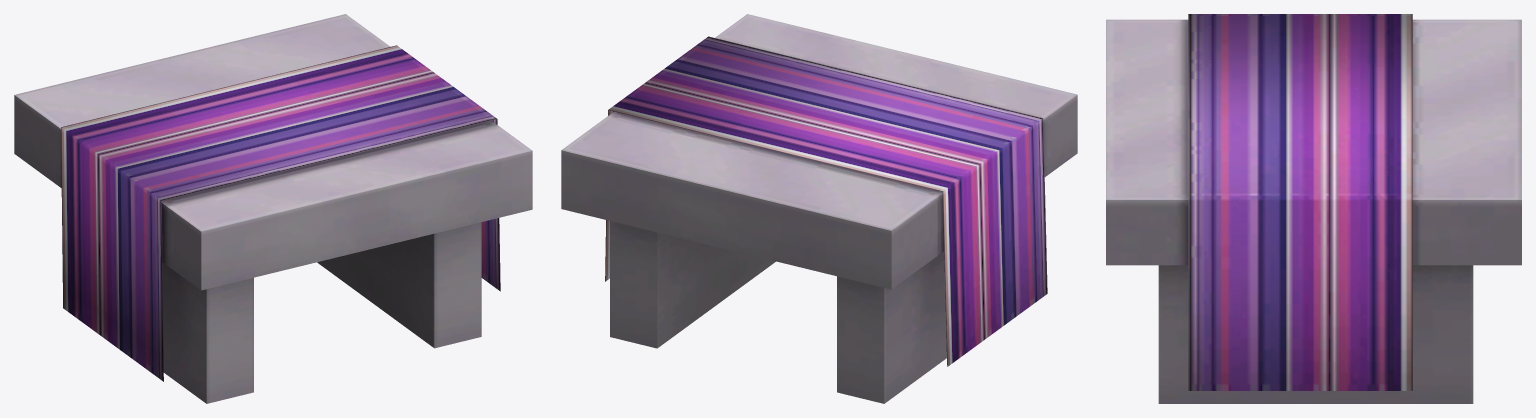
File: furni_0200610_01.FBX
3 views of the same model, side by side, from view 1: azimuth 30°, elevation 25°; view 2: azimuth 150°, elevation 25°; view 3: azimuth 270°, elevation 25° (orthographic). The views are drawn at different scales.
Visible parts, largest first — view 1: furni_0200610_01; view 2: furni_0200610_01; view 3: furni_0200610_01.
Part boxes in pixels (<box>): furni_0200610_01: <box>14,14,532,403</box>; furni_0200610_01: <box>561,14,1077,403</box>; furni_0200610_01: <box>1106,14,1521,403</box>.
Bounding box in the file's own units: 81.37 × 45.92 × 77.46.
Materials: 1 (1 with a texture image).
